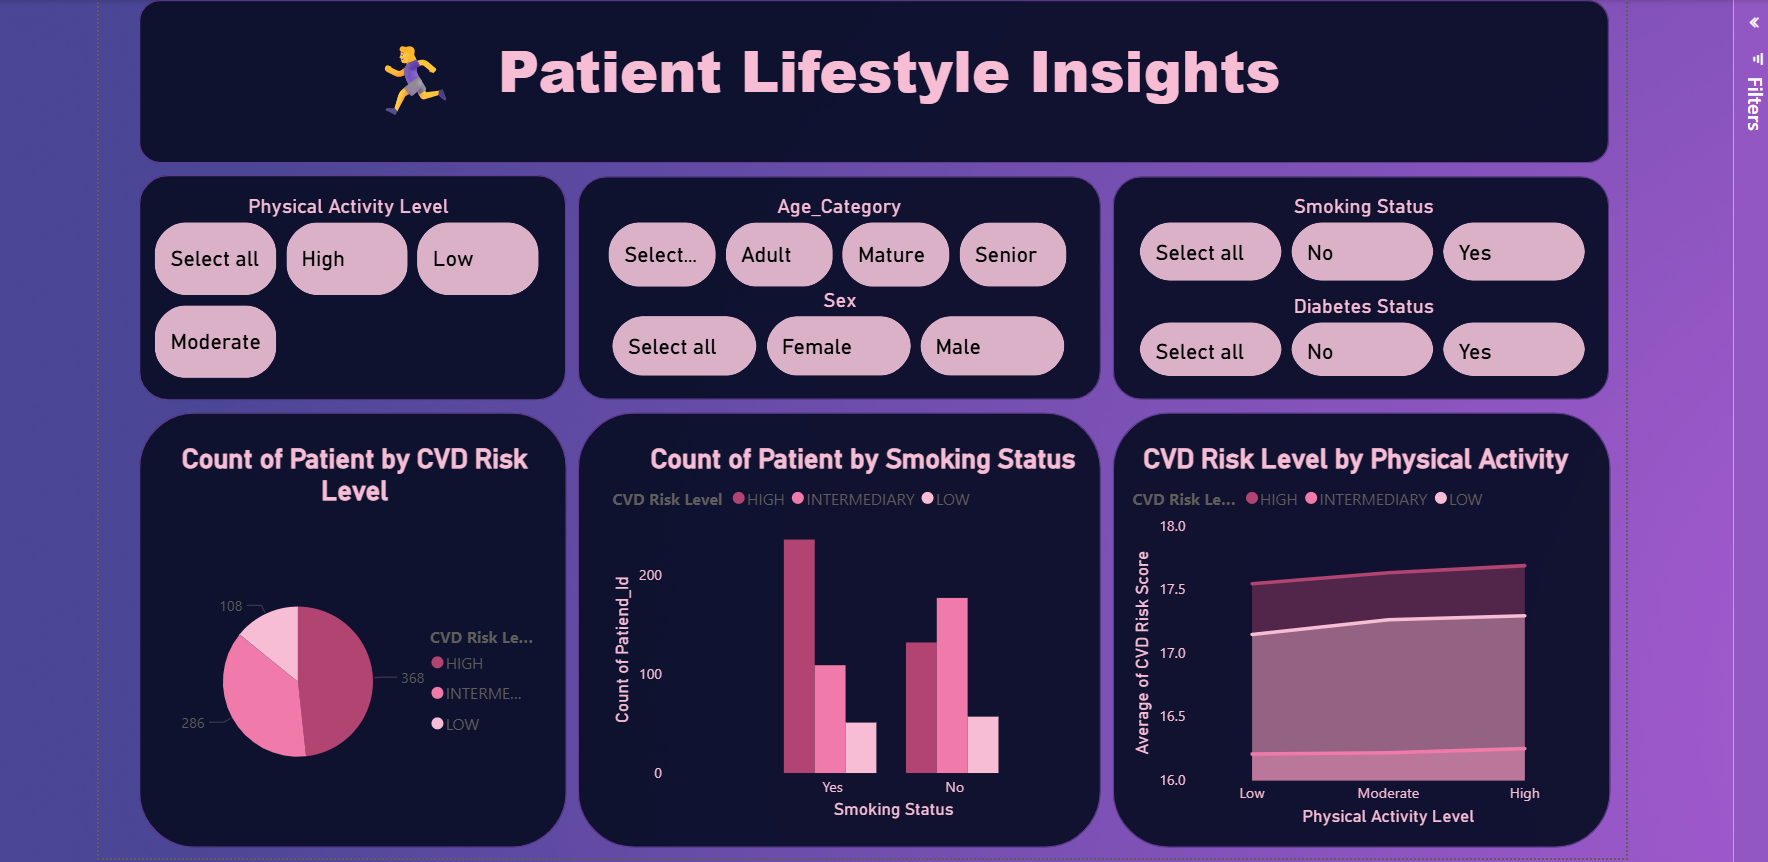

What the dashboard file says about the page in this screenshot:
{"tool":"powerbi","page":{"name":"Lifestyle & Behavioral Risk Factors","canvas":[1280,720],"ordinal":3},"visuals":[{"type":"shape","box":[401.2,147.5,438.8,187.5],"z":0},{"type":"shape","box":[850,147.5,416.2,187.5],"z":1000},{"type":"shape","box":[33.8,346.2,358.8,365],"z":2000},{"type":"shape","box":[33.6,0,1232.8,136.8],"z":3000},{"type":"shape","box":[33.6,146.8,358.3,189.1],"z":4000},{"type":"advancedSlicerVisual","fields":{"Values":["CVD Dataset.Physical Activity Level"]},"box":[42.3,163,334.6,159.2],"z":5000},{"type":"shape","box":[850,346.2,417.5,365],"z":6000},{"type":"advancedSlicerVisual","fields":{"Values":["CVD Dataset.Smoking Status"]},"box":[868.3,163,385.6,78.4],"z":7000},{"type":"shape","box":[401.2,346.2,438.8,365],"z":8000},{"type":"advancedSlicerVisual","fields":{"Values":["CVD Dataset.Sex"]},"box":[425.4,241.3,391.8,79.6],"z":9000},{"type":"advancedSlicerVisual","fields":{"Values":["CVD Dataset.Age_Category"]},"box":[422.9,163,396.8,83.3],"z":10000},{"type":"advancedSlicerVisual","fields":{"Values":["CVD Dataset.Diabetes Status"]},"box":[868.3,246.3,385.6,74.6],"z":11000},{"type":"areaChart","title":"CVD Risk Level by Physical Activity","fields":{"Category":["CVD Dataset.Physical Activity Level"],"Series":["CVD Dataset.CVD Risk Level"],"Y":["Avg(CVD Dataset.CVD Risk Score)"]},"box":[861.2,371.2,385,326.2],"z":12000},{"type":"clusteredColumnChart","title":"Count of Patient by Smoking Status ","fields":{"Category":["CVD Dataset.Smoking Status"],"Series":["CVD Dataset.CVD Risk Level"],"Y":["CountNonNull(CVD Dataset.Patiend_Id)"]},"box":[425.4,370.7,430.4,320.9],"z":13000},{"type":"pieChart","title":"Count of Patient by CVD Risk Level","fields":{"Y":["CountNonNull(CVD Dataset.Patiend_Id)"],"Category":["CVD Dataset.CVD Risk Level"]},"box":[51.2,371.2,326.2,348.8],"z":14000},{"type":"textbox","box":[261.2,19.9,850.9,98.3],"z":15000},{"type":"actionButton","box":[214,0,103.2,130.6],"z":16000}]}

Visuals, with their boxes on the page's 1280x720 design canvas (x1, y1, x2, y2). These are canvas units, not pixel positions in the 1768x862 screenshot, which may show the page scaled, cropped or inside an application window:
shape: (401,148,840,335)
shape: (850,148,1266,335)
shape: (34,346,393,711)
shape: (34,0,1266,137)
shape: (34,147,392,336)
advancedSlicerVisual - CVD Dataset.Physical Activity Level: (42,163,377,322)
shape: (850,346,1268,711)
advancedSlicerVisual - CVD Dataset.Smoking Status: (868,163,1254,241)
shape: (401,346,840,711)
advancedSlicerVisual - CVD Dataset.Sex: (425,241,817,321)
advancedSlicerVisual - CVD Dataset.Age_Category: (423,163,820,246)
advancedSlicerVisual - CVD Dataset.Diabetes Status: (868,246,1254,321)
"CVD Risk Level by Physical Activity" areaChart: (861,371,1246,697)
"Count of Patient by Smoking Status " clusteredColumnChart: (425,371,856,692)
"Count of Patient by CVD Risk Level" pieChart: (51,371,377,720)
textbox: (261,20,1112,118)
actionButton: (214,0,317,131)
